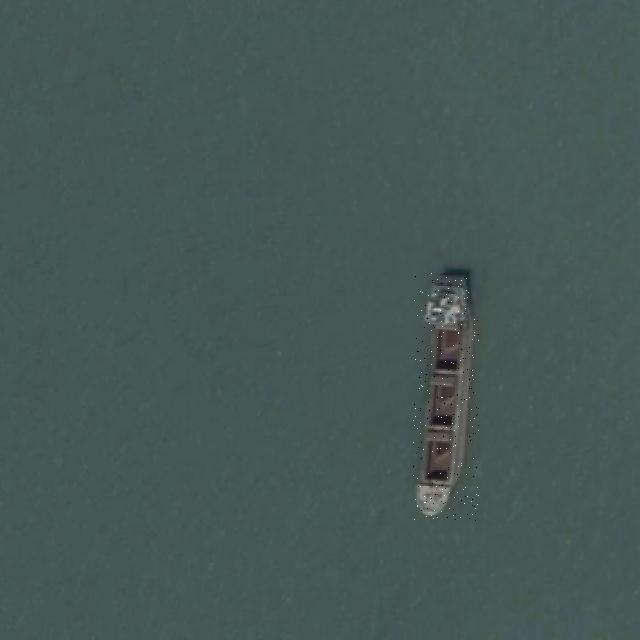boat: (414, 274, 479, 522)
